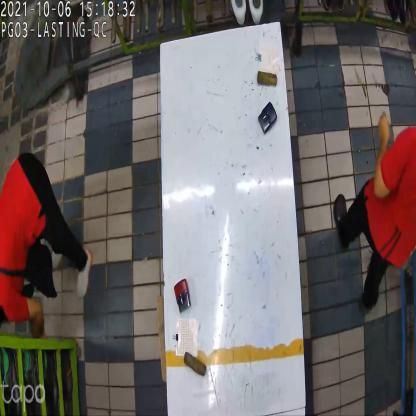stamp: (174, 280, 192, 316), (259, 100, 278, 133)
